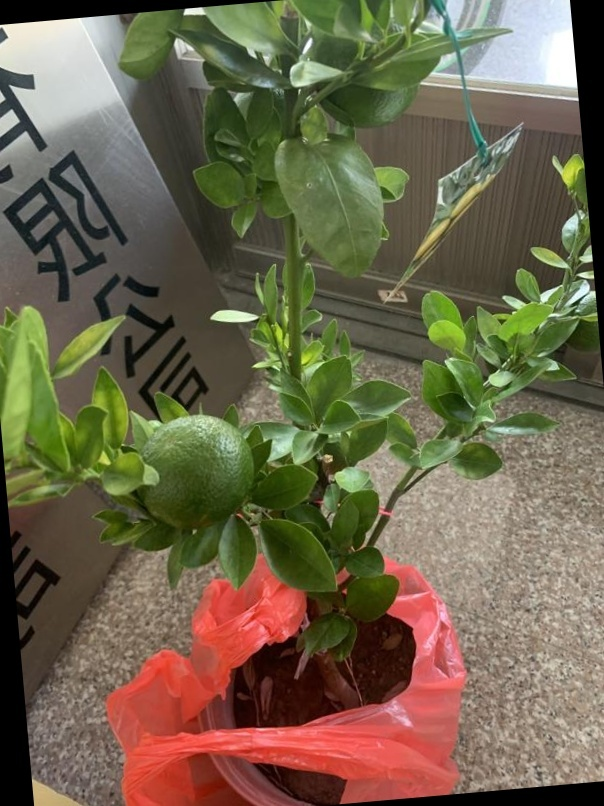Tangerine: (139, 411, 257, 533)
